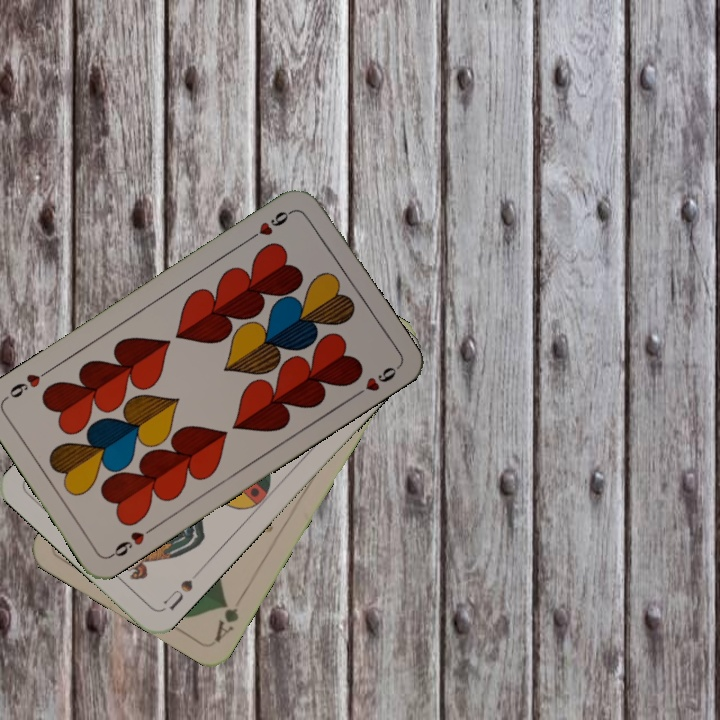GA: (210, 597, 242, 644)
H9: (105, 522, 158, 561), (244, 205, 297, 244)
SU: (159, 566, 202, 614)
